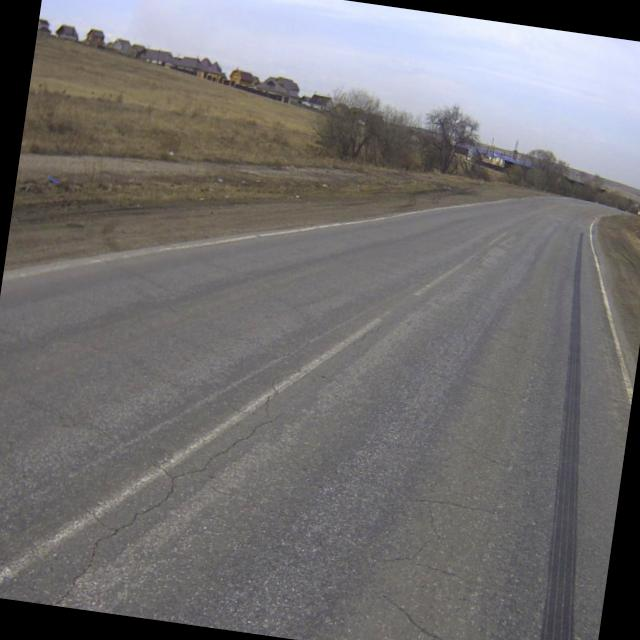road: (0, 196, 632, 640)
